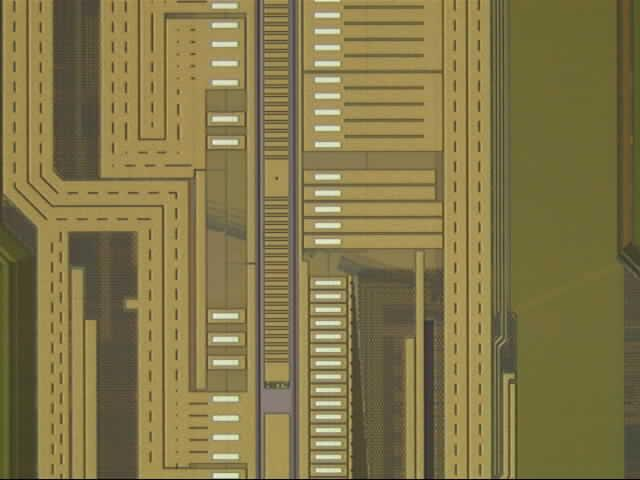SCRATCH: (190, 193, 634, 334)
